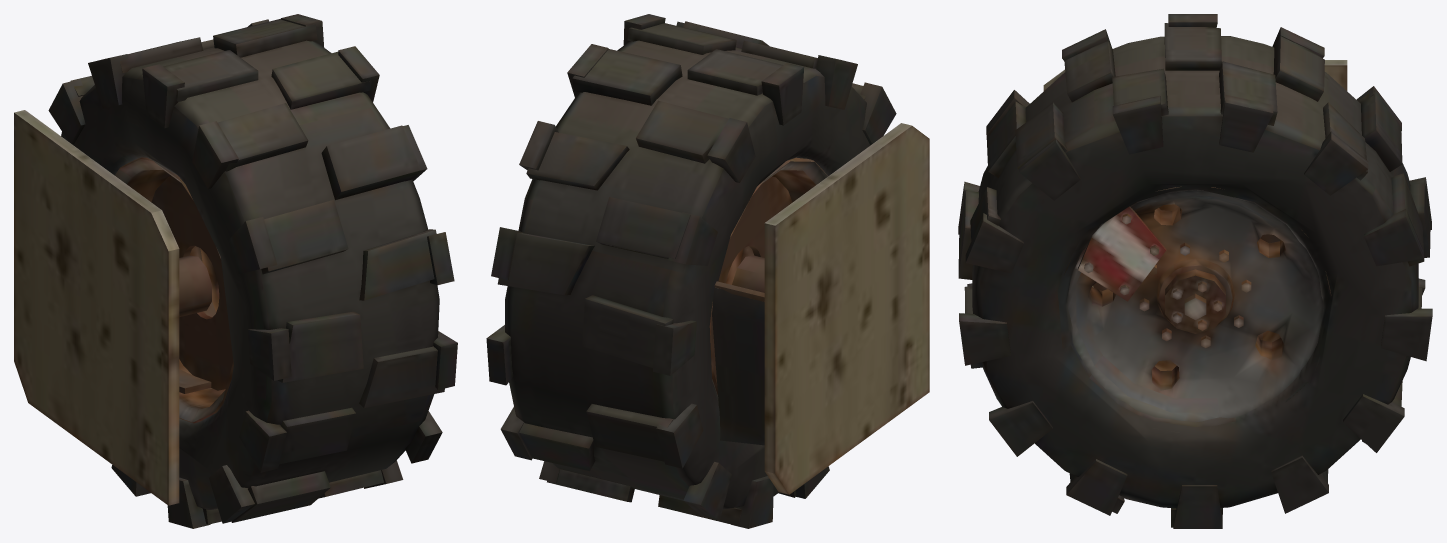
Rendered from R4M_WheelM_Side_Offroad_LOD1.glb.
The picture shows the model from 3 angles, left to right: view 1: azimuth 30°, elevation 25°; view 2: azimuth 150°, elevation 25°; view 3: azimuth 270°, elevation 25°; orthographic projection.
Parts seen in each view (by area): view 1: R4M_WheelM_Side_Offroad_LOD1; view 2: R4M_WheelM_Side_Offroad_LOD1; view 3: R4M_WheelM_Side_Offroad_LOD1.
Boxes of the visible parts, x1,y1,x2,y2 form: R4M_WheelM_Side_Offroad_LOD1: (14, 14, 457, 528); R4M_WheelM_Side_Offroad_LOD1: (486, 14, 929, 528); R4M_WheelM_Side_Offroad_LOD1: (958, 14, 1432, 528).
Size of the model in its own units: 0.451 by 0.764 by 0.7651.
Materials: 5 (5 with a texture image).
